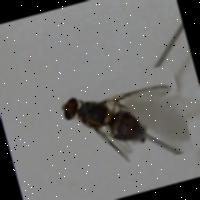Oriental-fruit-fly: (52, 62, 194, 182)
